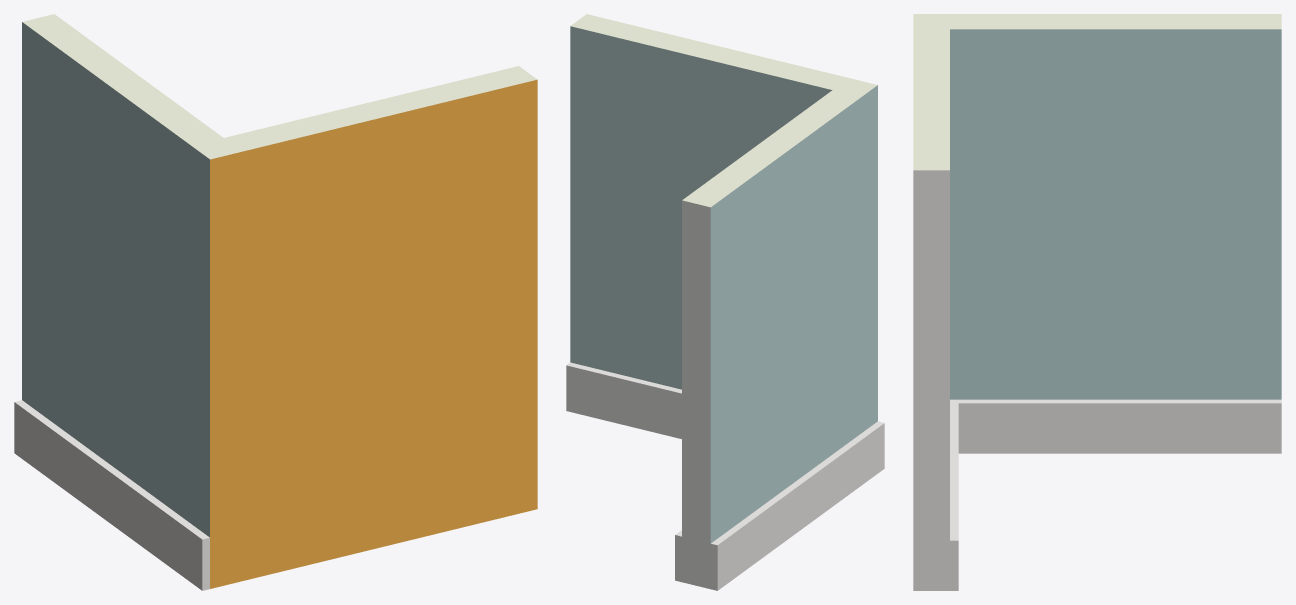
File: Corner.fbx
3 renders of one model, left to right at view 1: azimuth 30°, elevation 25°; view 2: azimuth 150°, elevation 25°; view 3: azimuth 270°, elevation 25°, orthographic. The views are drawn at different scales.
Parts seen in each view (by area): view 1: 10.003; view 2: 10.003; view 3: 10.003.
Boxes of the visible parts, x1,y1,x2,y2 form: 10.003: (14,14,537,590); 10.003: (566,14,884,590); 10.003: (913,14,1281,590).
Bounding box in the file's own units: 205 × 251 × 199.
1 material, 1 textured.
